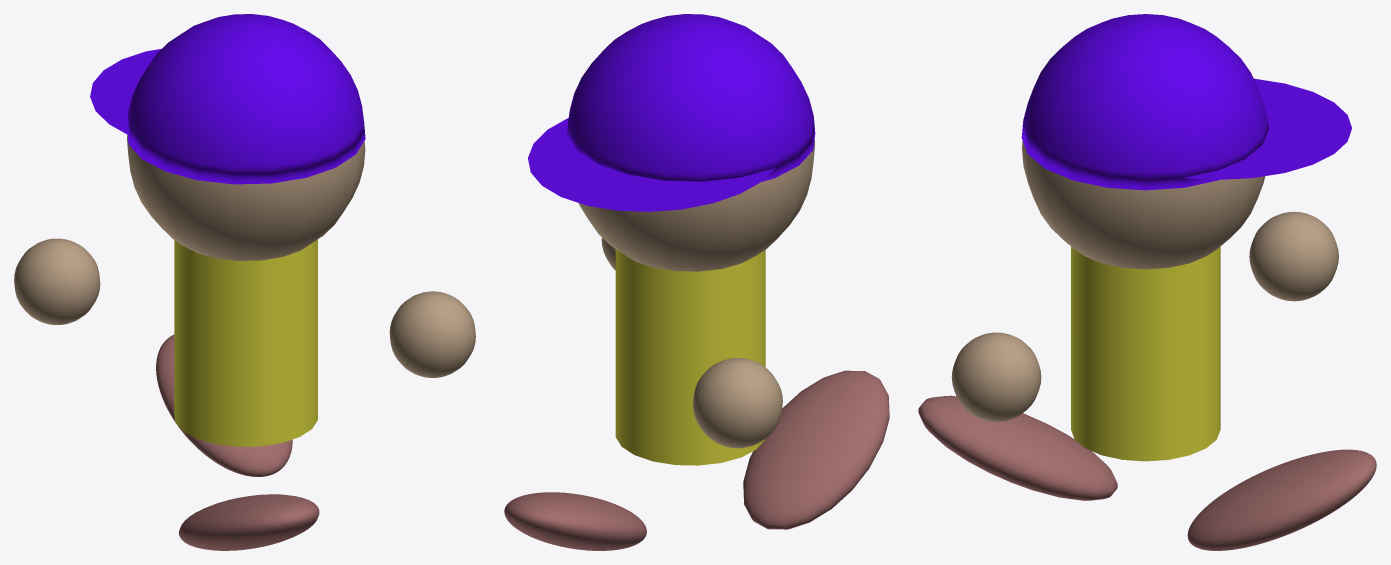
The model's file is playermigiasi.fbx.
3 views of the same model, side by side, from view 1: azimuth 30°, elevation 25°; view 2: azimuth 150°, elevation 25°; view 3: azimuth 270°, elevation 25° (orthographic). The views are drawn at different scales.
Parts seen in each view (by area): view 1: pSphere7, pCylinder1, pSphere1, pSphere3, pSphere2, pSphere5, pSphere6, pDisc1; view 2: pSphere7, pCylinder1, pSphere3, pSphere1, pDisc1, pSphere5, pSphere6; view 3: pSphere7, pCylinder1, pSphere1, pSphere6, pSphere3, pDisc1, pSphere2, pSphere5.
Part boxes in pixels (x1,y1,x2,y2): pSphere7: (127, 14, 365, 184); pCylinder1: (174, 239, 317, 446); pSphere1: (127, 135, 365, 260); pSphere3: (179, 494, 319, 550); pSphere2: (389, 291, 475, 377); pSphere5: (14, 238, 100, 324); pSphere6: (156, 334, 292, 476); pDisc1: (90, 48, 161, 135); pSphere7: (567, 14, 815, 181); pCylinder1: (615, 249, 765, 465); pSphere3: (743, 370, 889, 529); pSphere1: (578, 140, 814, 271); pDisc1: (528, 118, 775, 211); pSphere5: (693, 358, 782, 448); pSphere6: (504, 492, 646, 550); pSphere7: (1021, 14, 1268, 190); pCylinder1: (1071, 246, 1220, 461); pSphere1: (1022, 141, 1265, 269); pSphere6: (1187, 449, 1376, 550); pSphere3: (918, 395, 1117, 500); pDisc1: (1182, 78, 1351, 179); pSphere2: (951, 332, 1041, 421); pSphere5: (1249, 211, 1338, 301).
Size of the model in its own units: 0.7075 by 1.06 by 0.8869.
